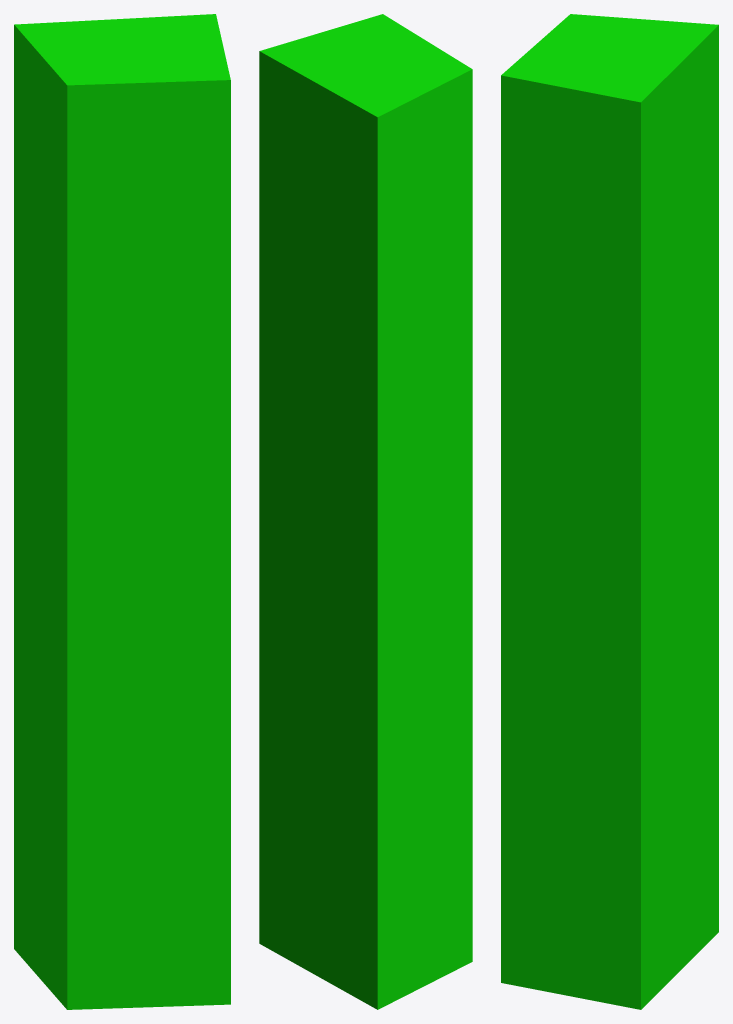
3 views of the same model, side by side, from view 1: azimuth 30°, elevation 25°; view 2: azimuth 150°, elevation 25°; view 3: azimuth 270°, elevation 25° (orthographic). The views are drawn at different scales.
Visible parts, largest first — view 1: Plane.026; view 2: Plane.026; view 3: Plane.026.
Boxes of the visible parts, x1,y1,x2,y2 form: Plane.026: (14,14,230,1009); Plane.026: (259,14,472,1009); Plane.026: (501,14,718,1009).
Bounding box in the file's own units: 176 × 844 × 184.
